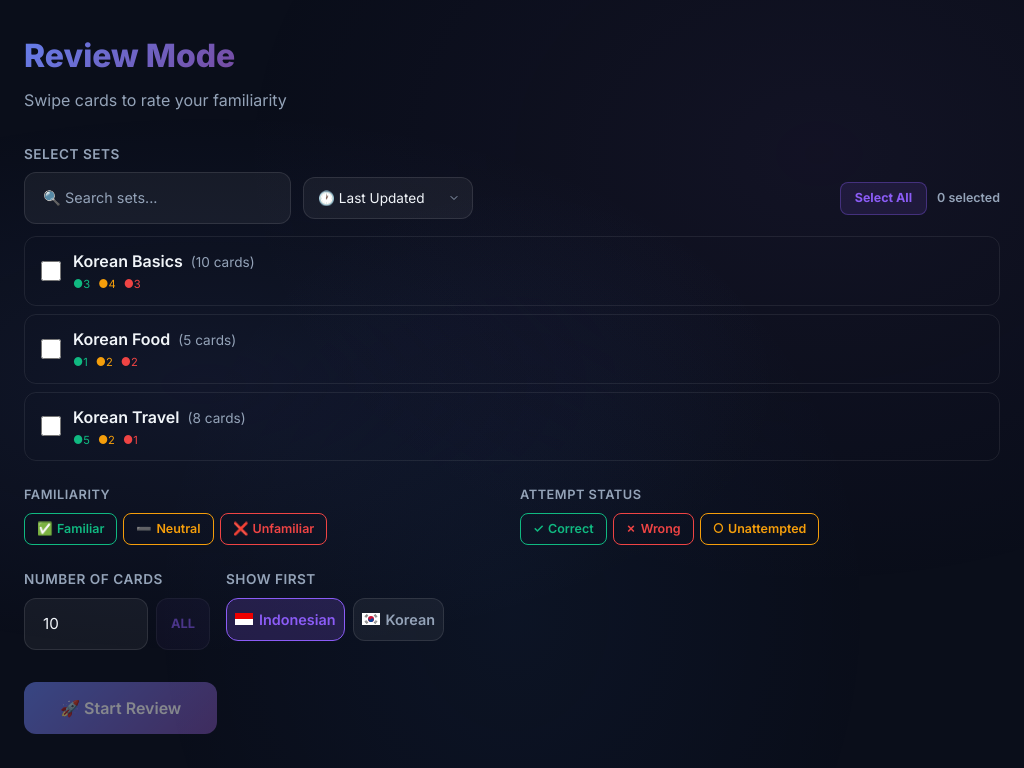
Test: ReviewMode › Setup screen › shows Select All / Deselect All buttons work
expect the text "Korean Basics" is shown: met, box [73,251,183,271]
Click the button "Select All". click: (883, 198)
box: [840,182,927,214]
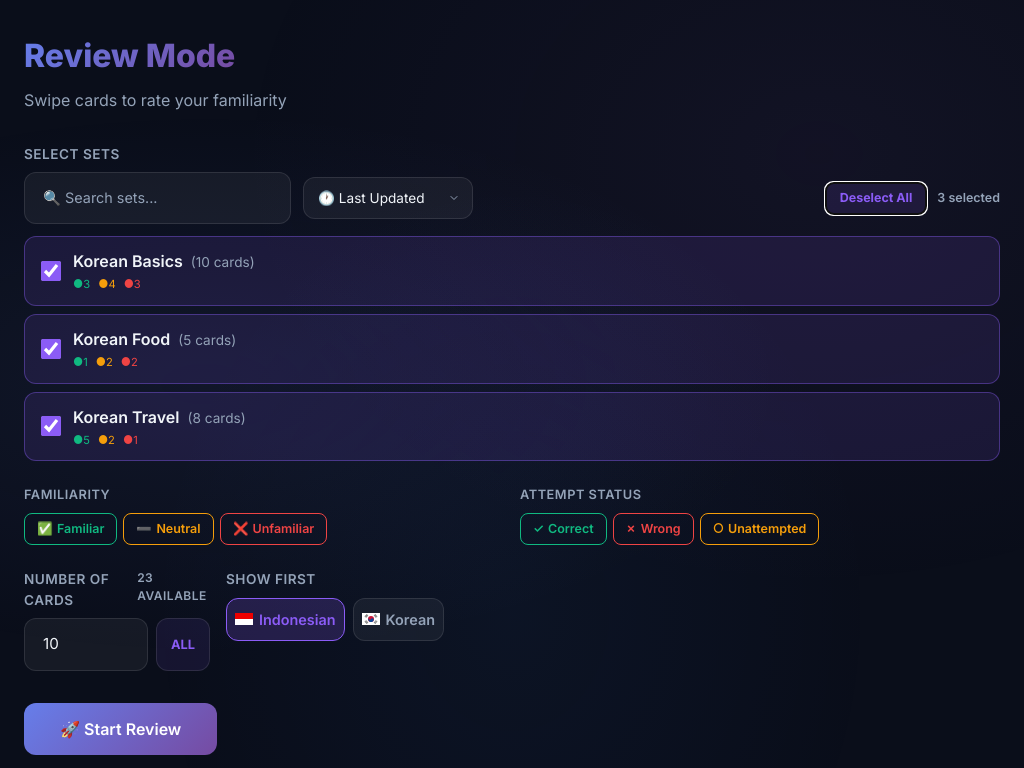
expect the checkbox labelled "Korean Basics(10 cards) ●3 ●4 ●3" is checked: met, box [41,261,61,281]
expect the checkbox labelled "Korean Food(5 cards) ●1 ●2 ●2" is checked: met, box [41,339,61,359]
expect the checkbox labelled "Korean Travel(8 cards) ●5 ●2 ●1" is checked: met, box [41,416,61,436]
Click the button "Deselect All". click: (876, 198)
box: [825,182,927,214]
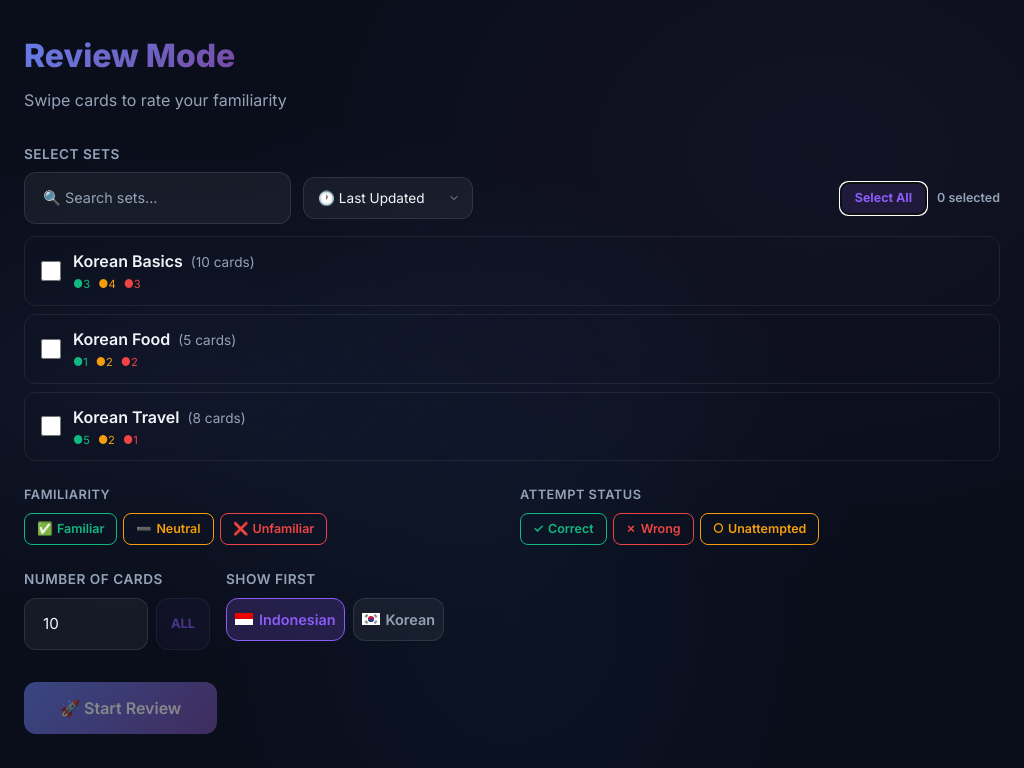
expect the checkbox labelled "Korean Basics(10 cards) ●3 ●4 ●3" is not checked: met, box [41,261,61,281]
expect the checkbox labelled "Korean Food(5 cards) ●1 ●2 ●2" is not checked: met, box [41,339,61,359]
expect the checkbox labelled "Korean Travel(8 cards) ●5 ●2 ●1" is not checked: met, box [41,416,61,436]
